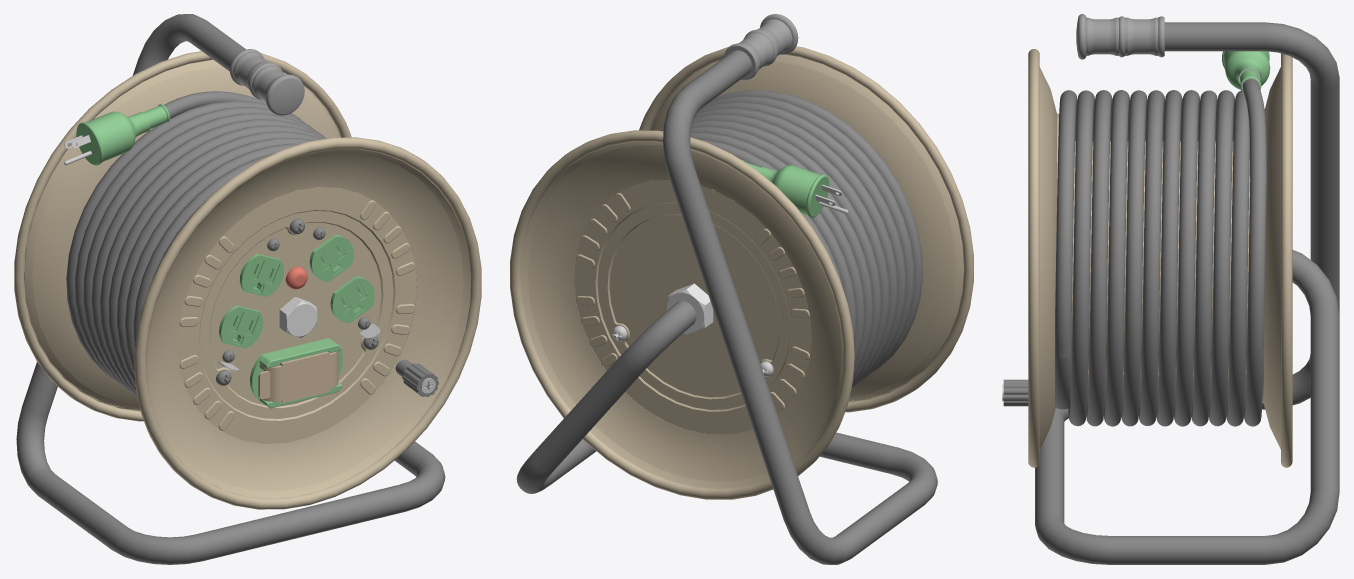
Rendered from denkodoramu.glb.
3 renders of one model, left to right at view 1: azimuth 30°, elevation 25°; view 2: azimuth 150°, elevation 25°; view 3: azimuth 270°, elevation 25°, orthographic. The views are drawn at different scales.
Parts seen in each view (by area): view 1: 電工ドラム; view 2: 電工ドラム; view 3: 電工ドラム.
Part boxes in pixels (x1=…): 電工ドラム: x1=14, y1=14, x2=481, y2=564; 電工ドラム: x1=510, y1=14, x2=973, y2=564; 電工ドラム: x1=1002, y1=14, x2=1339, y2=564.
Bounding box in the file's own units: 0.2748 × 0.3404 × 0.2215.
